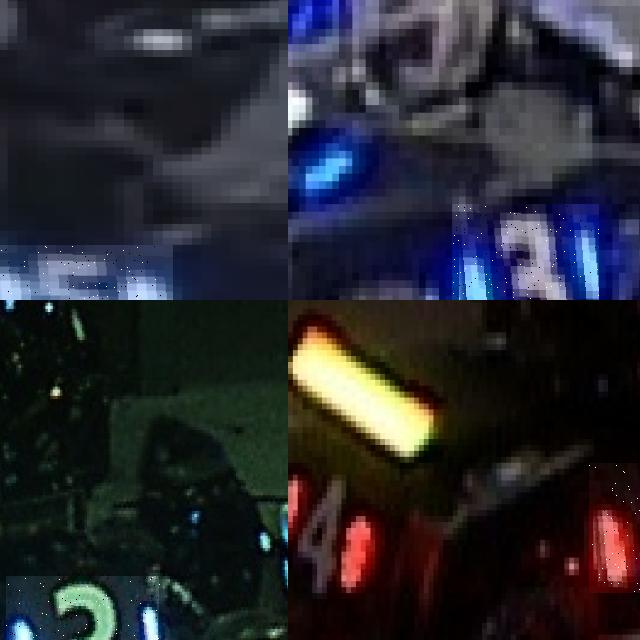B3: (452, 204, 598, 300), (6, 576, 160, 640)
B5: (0, 244, 172, 300)
R4: (288, 468, 375, 599), (588, 462, 640, 593)
